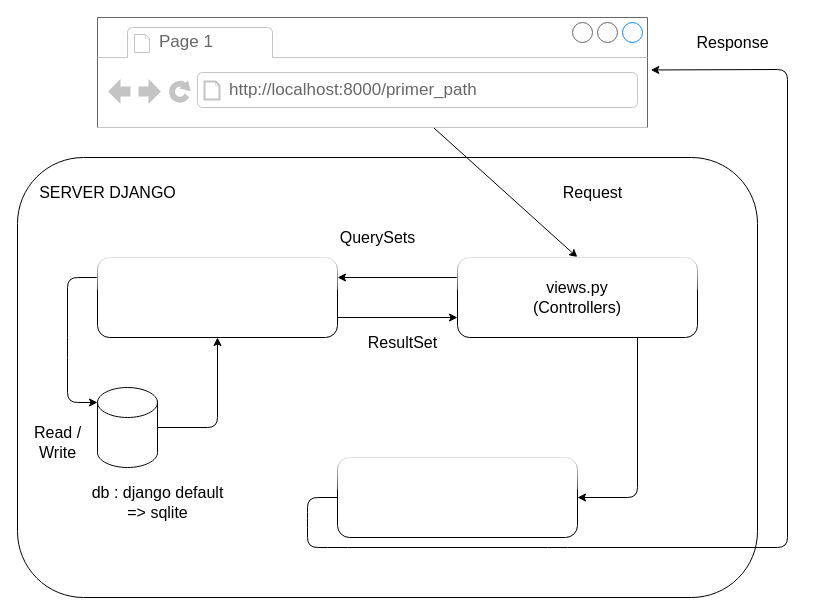
Image size: 813x615. Some labels were removed from this diagram. The box of each missing label's shape, as (x1, y1, x2, y2) in pixels:
models.py (construccion con ORM): (96, 256, 338, 338)
Templates (html,<static files>): (336, 456, 578, 538)
